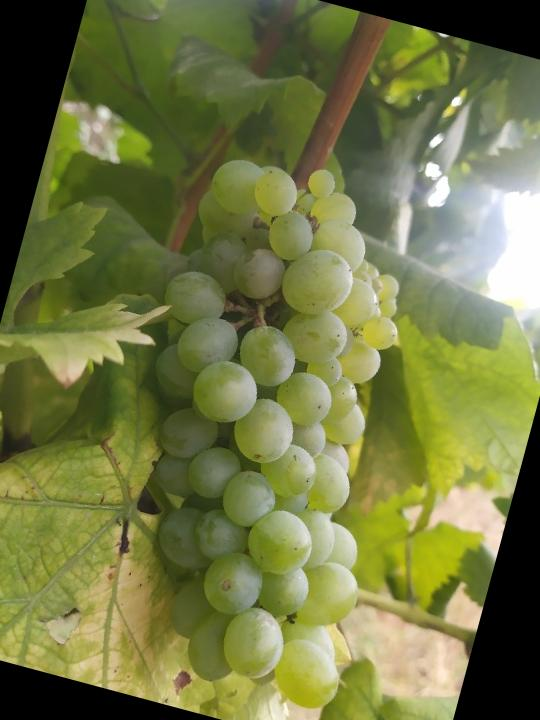grape: (67, 135, 474, 720)
